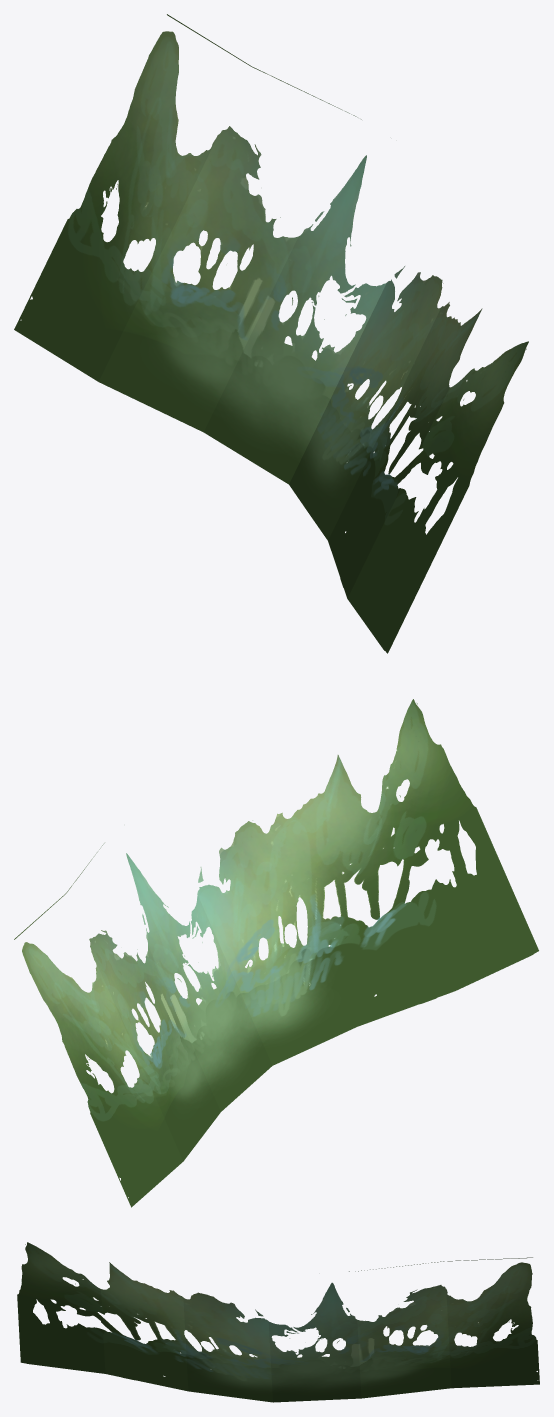
The model's file is BackgroundMiddleLayer.fbx.
3 views of the same model, one above another, from view 1: azimuth 30°, elevation 25°; view 2: azimuth 150°, elevation 25°; view 3: azimuth 270°, elevation 25° (orthographic). The views are drawn at different scales.
Visible parts, largest first — view 1: Plane.012; view 2: Plane.012; view 3: Plane.012.
Part boxes in pixels (left/top/right/bottom): Plane.012: left=14, top=14, right=528, bottom=653; Plane.012: left=14, top=699, right=538, bottom=1207; Plane.012: left=17, top=1242, right=539, bottom=1402.
Bounding box in the file's own units: 2601 × 2811 × 7604.
1 material, 1 textured.
